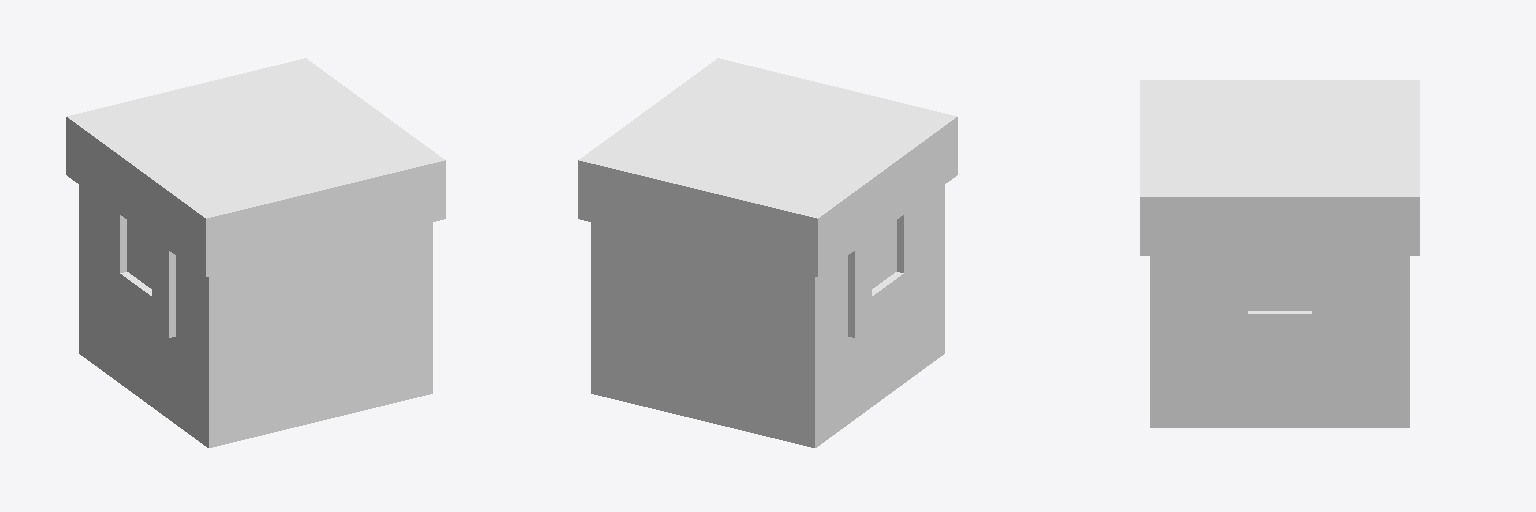
Rendered from icebox.obj.
The picture shows the model from 3 angles: view 1: azimuth 30°, elevation 25°; view 2: azimuth 150°, elevation 25°; view 3: azimuth 270°, elevation 25°; orthographic projection.
Visible parts, largest first — view 1: g0, g2_group; view 2: g0, g2_group; view 3: g0, g3_group.
Boxes of the visible parts, <box> form: g0: <box>66,58,445,447</box>; g2_group: <box>104,203,175,337</box>; g0: <box>578,58,957,447</box>; g2_group: <box>848,203,919,337</box>; g0: <box>1140,80,1419,427</box>; g3_group: <box>1215,256,1344,343</box>.
Bounding box in the file's own units: 0.853 × 0.8 × 0.8611.